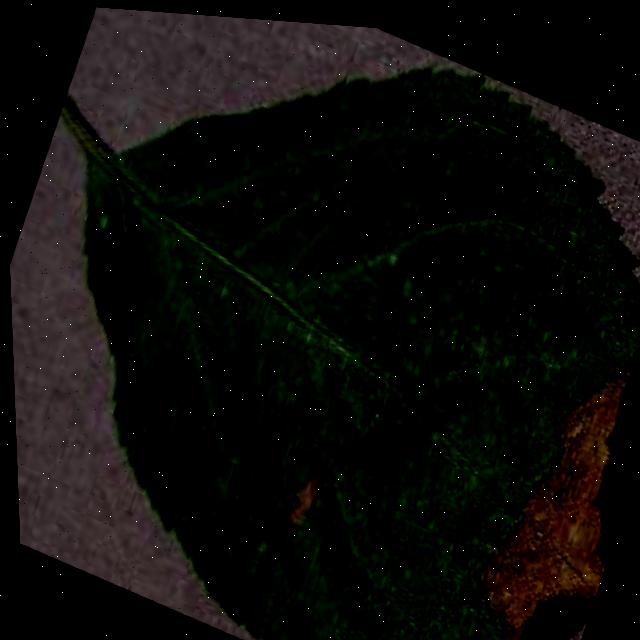black_rot: (432, 295, 640, 640), (247, 442, 348, 566)
